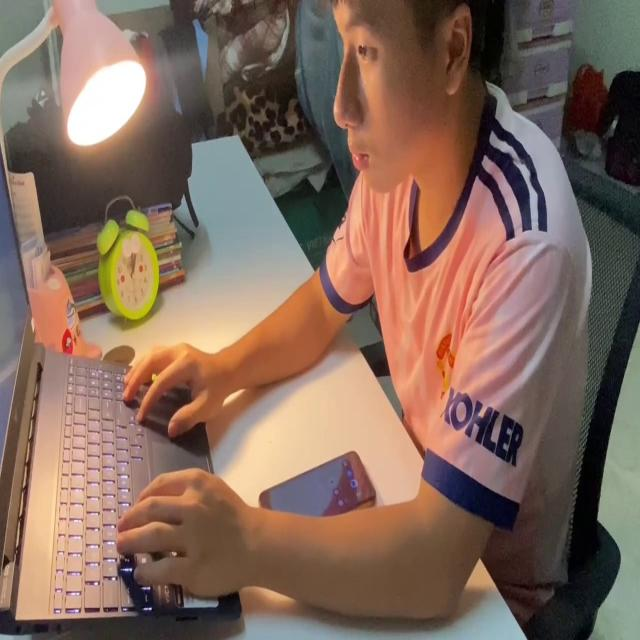laptop: (0, 129, 247, 631)
phone: (254, 447, 380, 524)
student: (115, 3, 597, 640)
